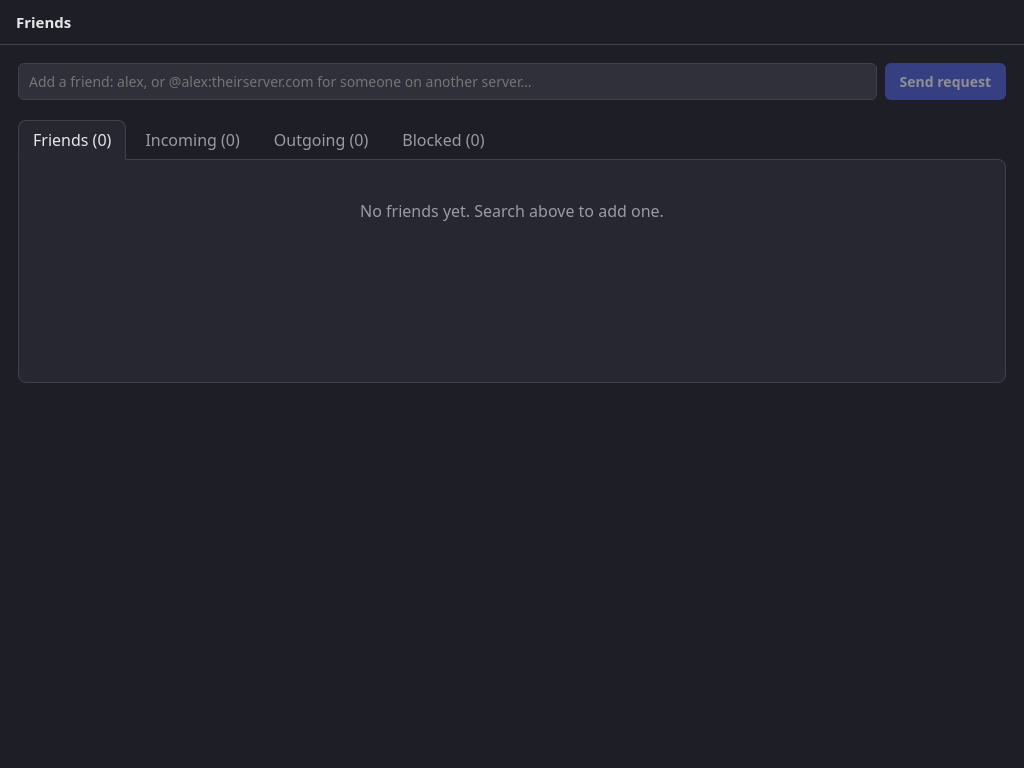
Test: the add-a-friend search results › closes when you click anywhere outside the search
Replace the text in the dropdown with "bo" at {"x": 447, "y": 82}, box [18,63,877,100]
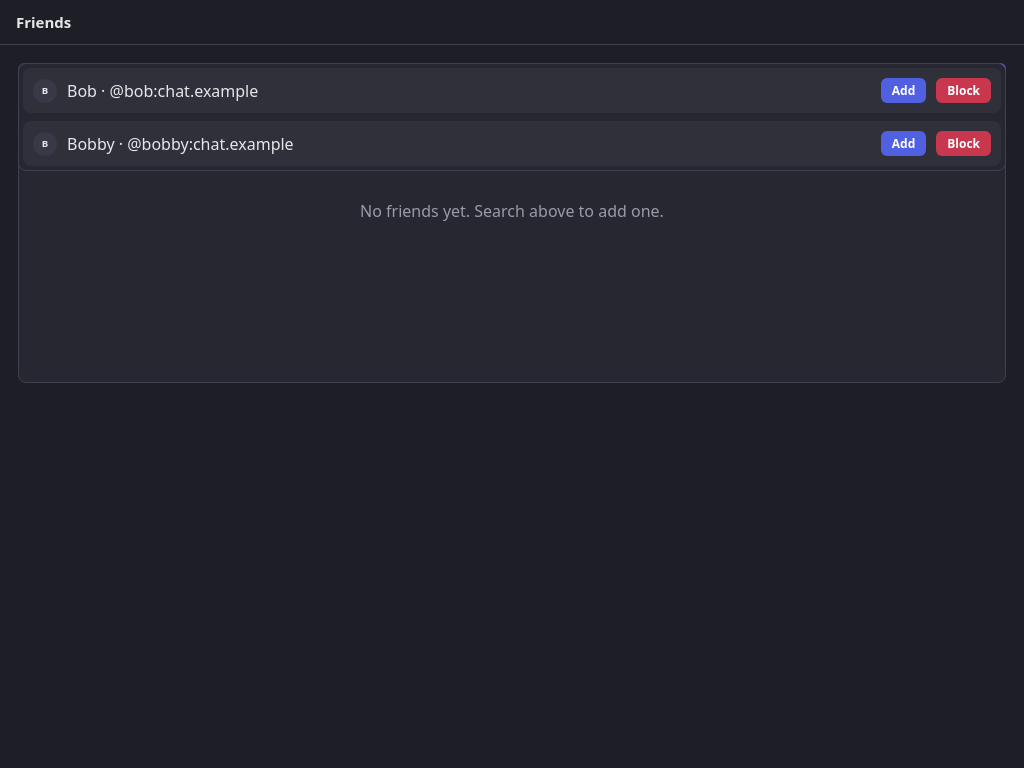
Expected: the text "Bob · @bob:chat.example" is shown, [67,80,258,102]
Press the mouse on the element that starts with "Friends" at {"x": 512, "y": 384}, box [0,0,1023,767]
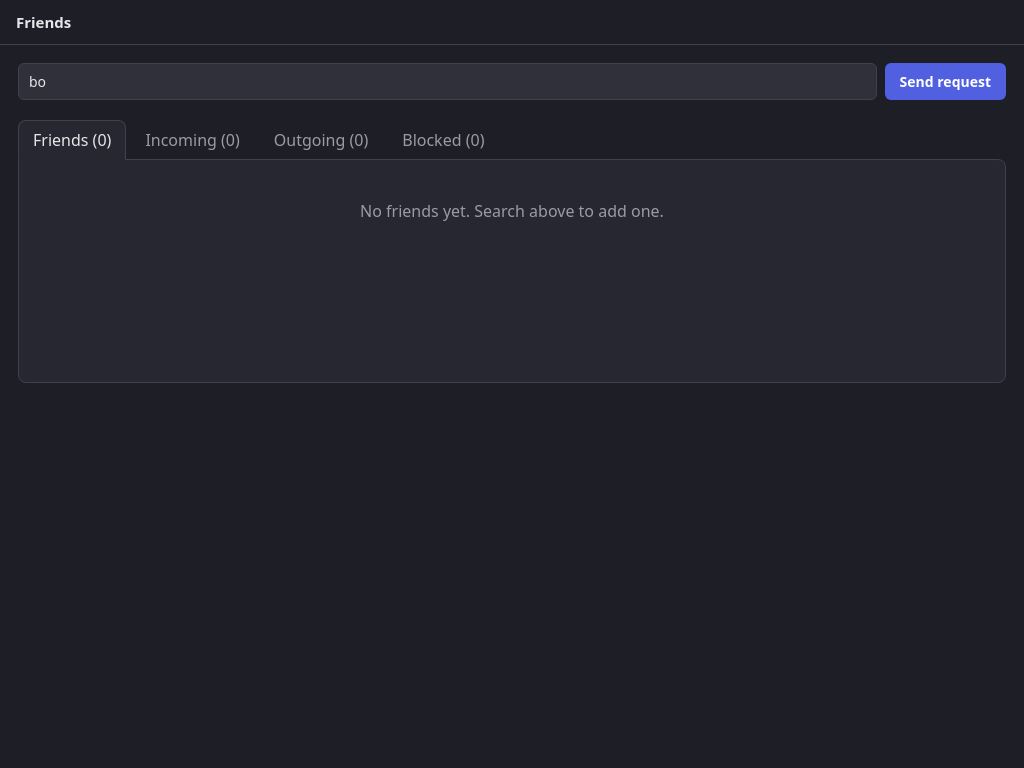
Expected: the text "Bob · @bob:chat.example" is gone
